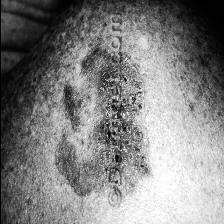Potentially Malignant Skin Tumors: (50, 49, 142, 203)
